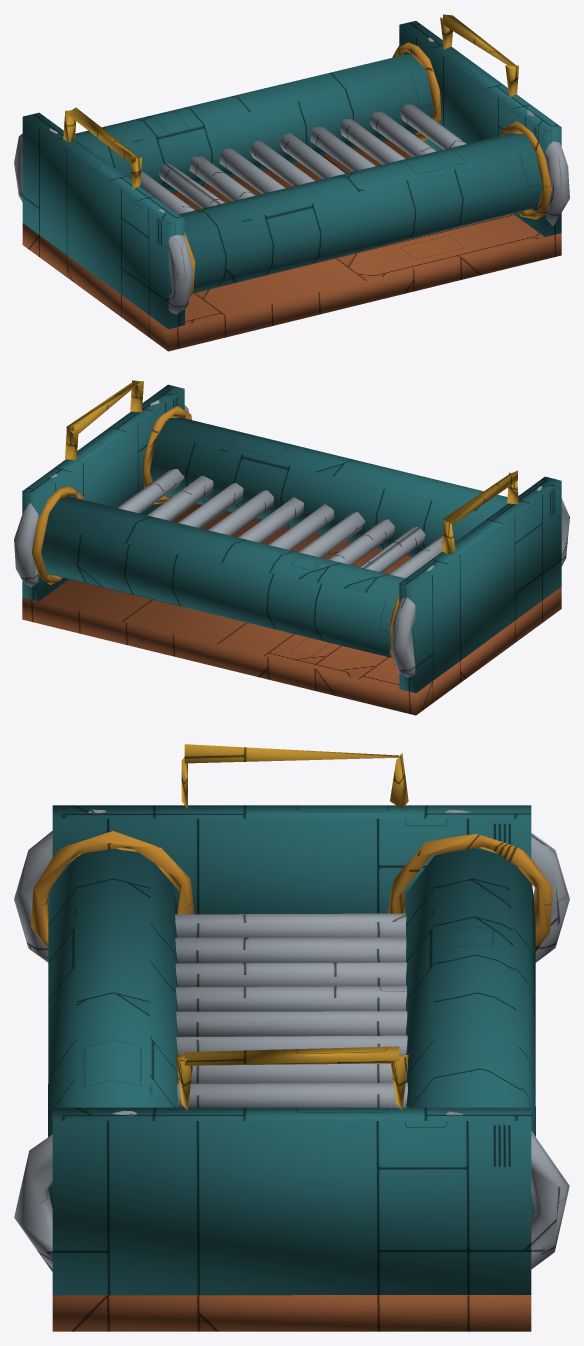
Rendered from heat_exchanger_cassette_lod2.glb.
3 views of the same model, one above another, from view 1: azimuth 30°, elevation 25°; view 2: azimuth 150°, elevation 25°; view 3: azimuth 270°, elevation 25° (orthographic). The views are drawn at different scales.
Visible parts, largest first — view 1: LOD2_Armor, LOD2_Hull, LOD2_BrushedMetal, LOD2_Warning, LOD2_Livery; view 2: LOD2_Armor, LOD2_Hull, LOD2_BrushedMetal, LOD2_Warning, LOD2_Livery; view 3: LOD2_Armor, LOD2_BrushedMetal, LOD2_Hull, LOD2_Livery, LOD2_Warning.
Part boxes in pixels (x1,y1,x2,y2): LOD2_Armor: (22,21,561,329); LOD2_Hull: (22,139,561,351); LOD2_BrushedMetal: (14,37,569,314); LOD2_Warning: (63,14,518,189); LOD2_Livery: (184,42,551,297); LOD2_Armor: (22,384,561,692); LOD2_Hull: (22,503,561,715); LOD2_BrushedMetal: (14,400,569,677); LOD2_Warning: (65,380,518,554); LOD2_Livery: (32,406,399,668); LOD2_Armor: (48,805,535,1295); LOD2_BrushedMetal: (14,809,569,1272); LOD2_Hull: (52,1295,531,1331); LOD2_Livery: (31,831,552,1219); LOD2_Warning: (175,744,408,1110).
Size of the model in its own units: 4.18 by 1.7 by 3.11.
Materials: 5 (5 with a texture image).
